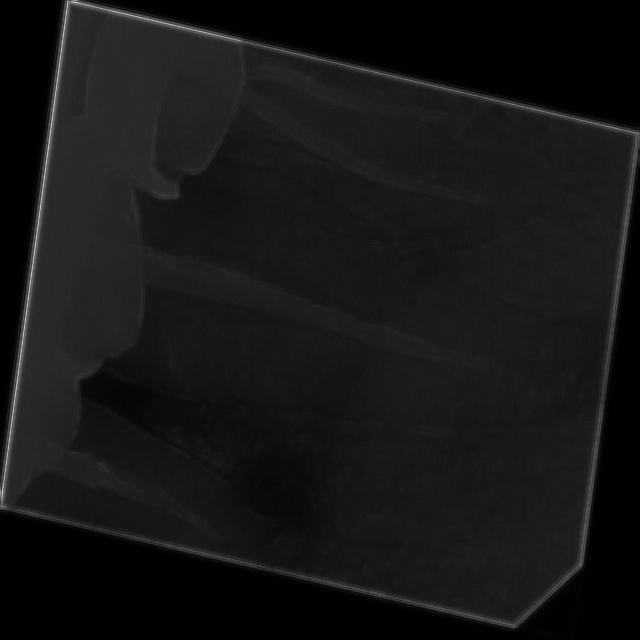Class 1- complete endodontic treatment: (17, 144, 620, 512), (49, 5, 540, 330), (1, 345, 376, 589)
